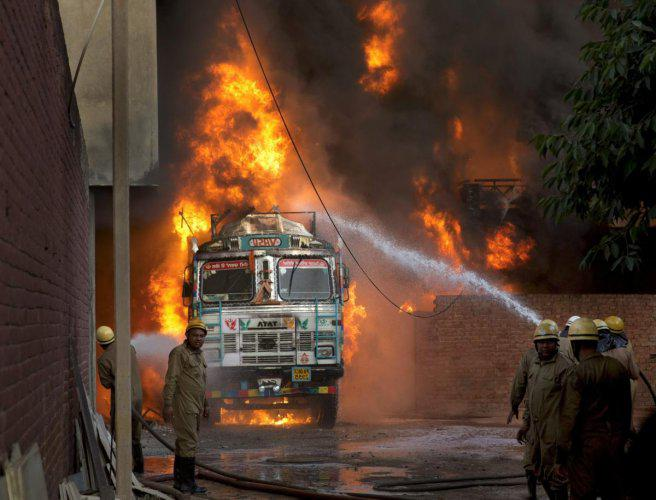fire: (172, 27, 309, 234), (409, 171, 534, 278), (134, 251, 202, 357), (352, 8, 415, 96), (219, 394, 315, 431), (341, 283, 372, 367)
